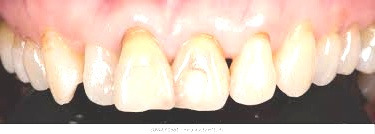Tooth Discoloration: (112, 19, 278, 102)
